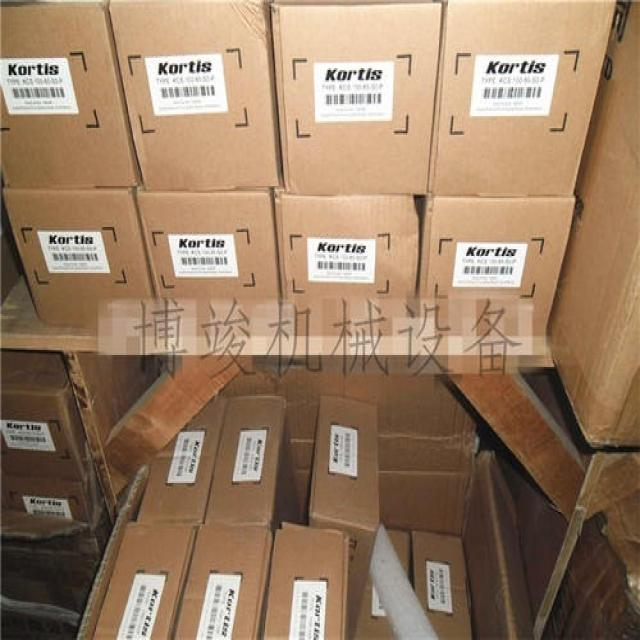box: (548, 2, 640, 447), (426, 0, 618, 198), (106, 2, 284, 191), (271, 2, 443, 195), (1, 3, 143, 189), (3, 188, 163, 333), (415, 195, 577, 336), (275, 188, 426, 335), (134, 189, 284, 335), (311, 396, 380, 640), (204, 396, 302, 527), (1, 348, 97, 481), (91, 521, 198, 638), (172, 522, 274, 640), (138, 394, 227, 524), (262, 522, 347, 640), (0, 468, 108, 539), (412, 532, 474, 640), (353, 572, 399, 640), (384, 527, 412, 580)
